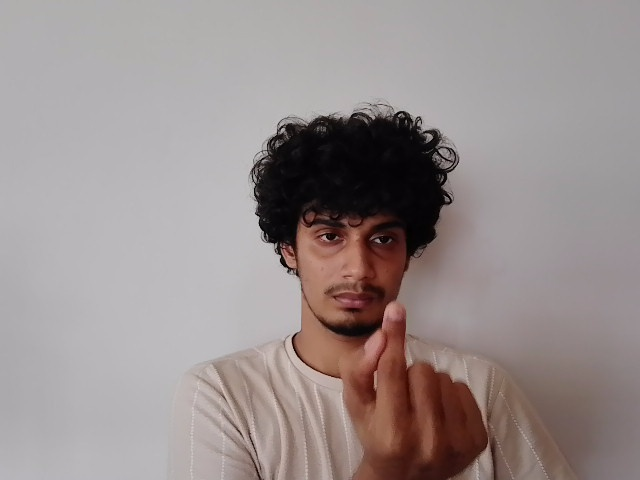just: (335, 299, 493, 476)
